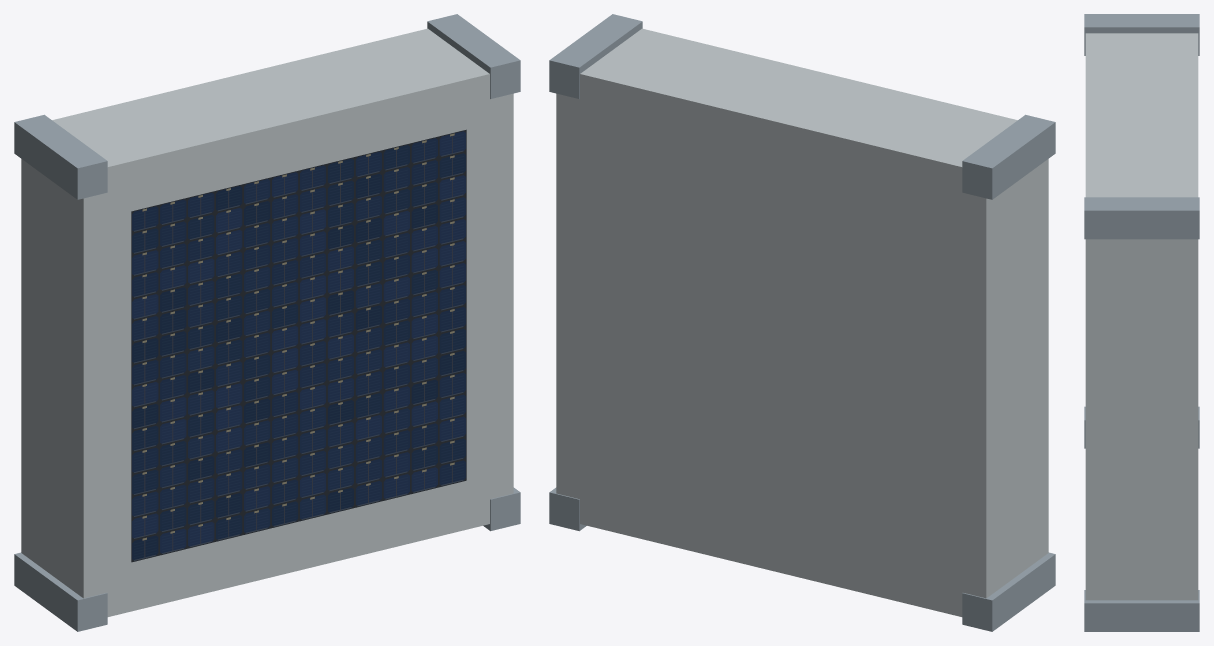
File: ref-cubesat-0-25u-47957.glb
3 renders of one model, left to right at view 1: azimuth 30°, elevation 25°; view 2: azimuth 150°, elevation 25°; view 3: azimuth 270°, elevation 25°, orthographic. The views are drawn at different scales.
Parts seen in each view (by area): view 1: Spacecraft body, Body-mounted cells, Dispenser rail (×4); view 2: Spacecraft body, Dispenser rail (×4); view 3: Spacecraft body, Dispenser rail (×3).
Boxes of the visible parts, x1,y1,x2,y2 form: Spacecraft body: [21, 28, 513, 616]; Body-mounted cells: [131, 129, 466, 562]; Dispenser rail (×4): [14, 14, 520, 631]; Spacecraft body: [556, 28, 1048, 616]; Dispenser rail (×4): [549, 14, 1055, 631]; Spacecraft body: [1085, 33, 1198, 600]; Dispenser rail (×3): [1084, 14, 1199, 631].
Bounding box in the file's own units: 0.103 × 0.103 × 0.0255.
3 materials, 1 textured.
